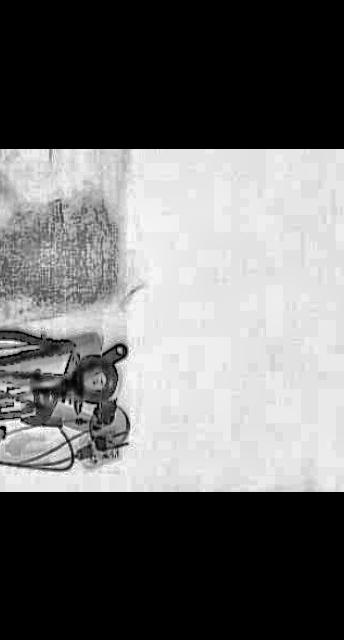Pliers: (0, 329, 78, 368)
